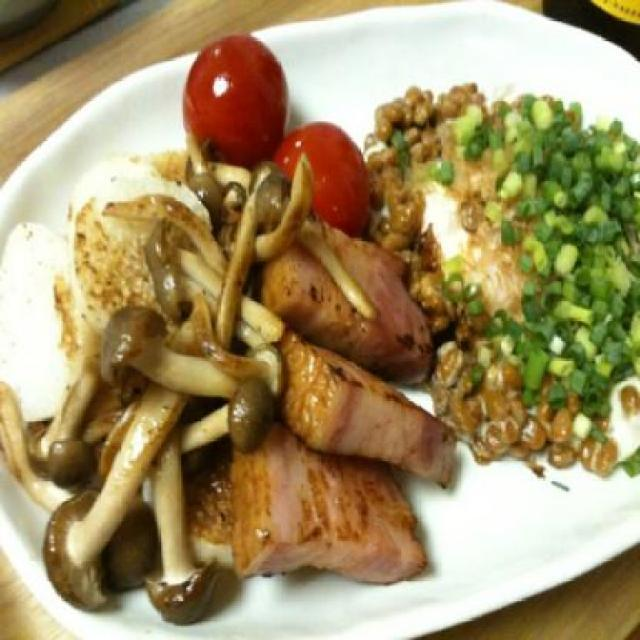Tomato: (179, 38, 292, 157), (272, 120, 371, 240)
